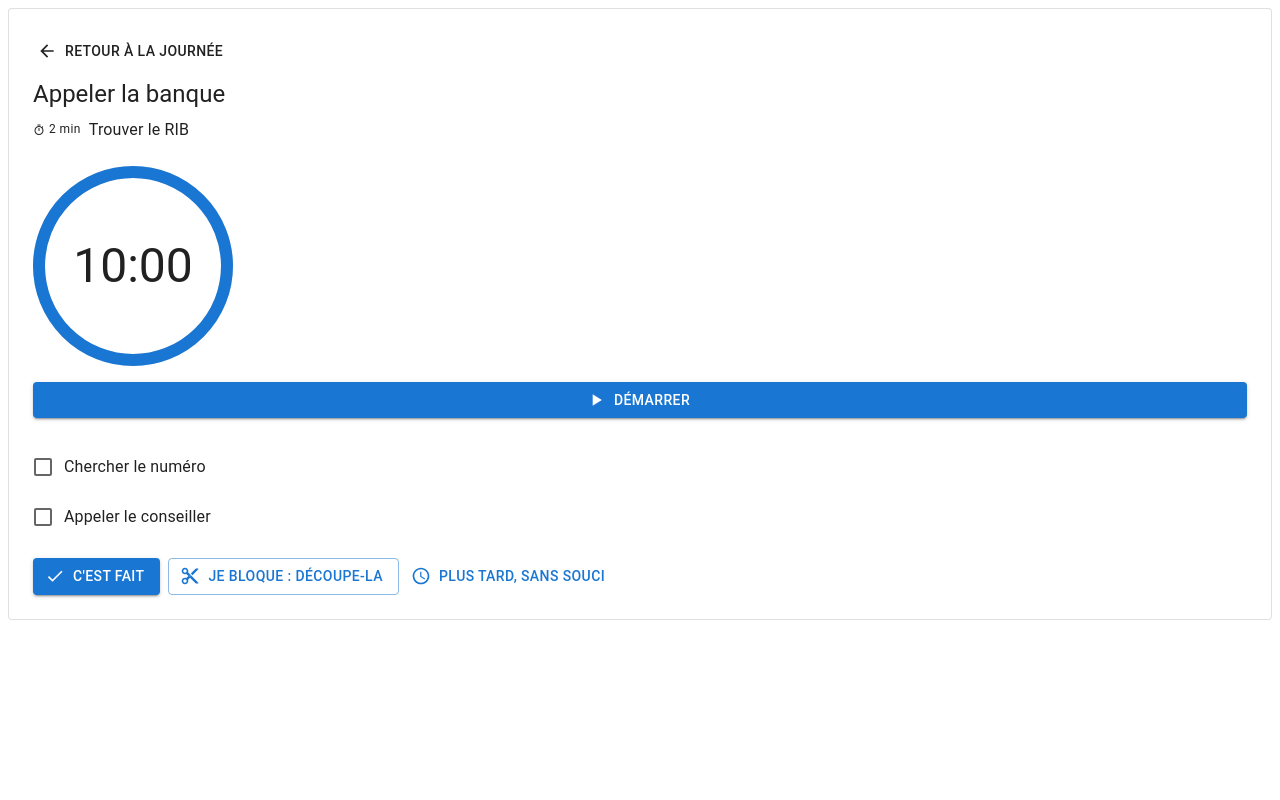
Scenario: TaskFocus (MAG-499) › the timer › finish: it reaches 00:00, the ring is empty and nothing blames
This screenshot has width=1280, height=800.
Click the button "Démarrer" at (640, 400), box x1=33 y1=382 x2=1247 y2=418
Wait 600000 ms
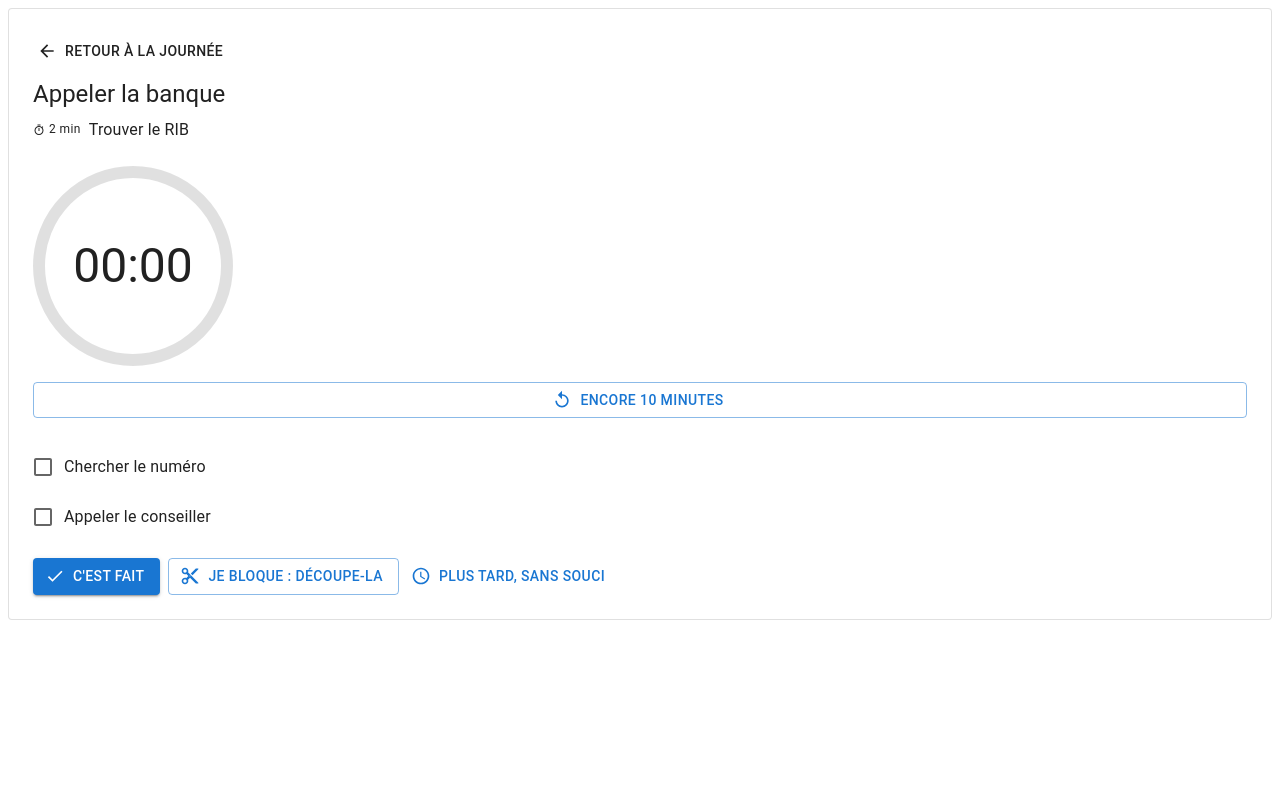
Check: the button "Pause" is not shown
Check: the element named "Minuteur" reads "00:00", box x1=73 y1=236 x2=193 y2=294
Check: the button "Encore 10 minutes" is shown
Click the button "Encore 10 minutes" at (640, 400), box x1=33 y1=382 x2=1247 y2=418
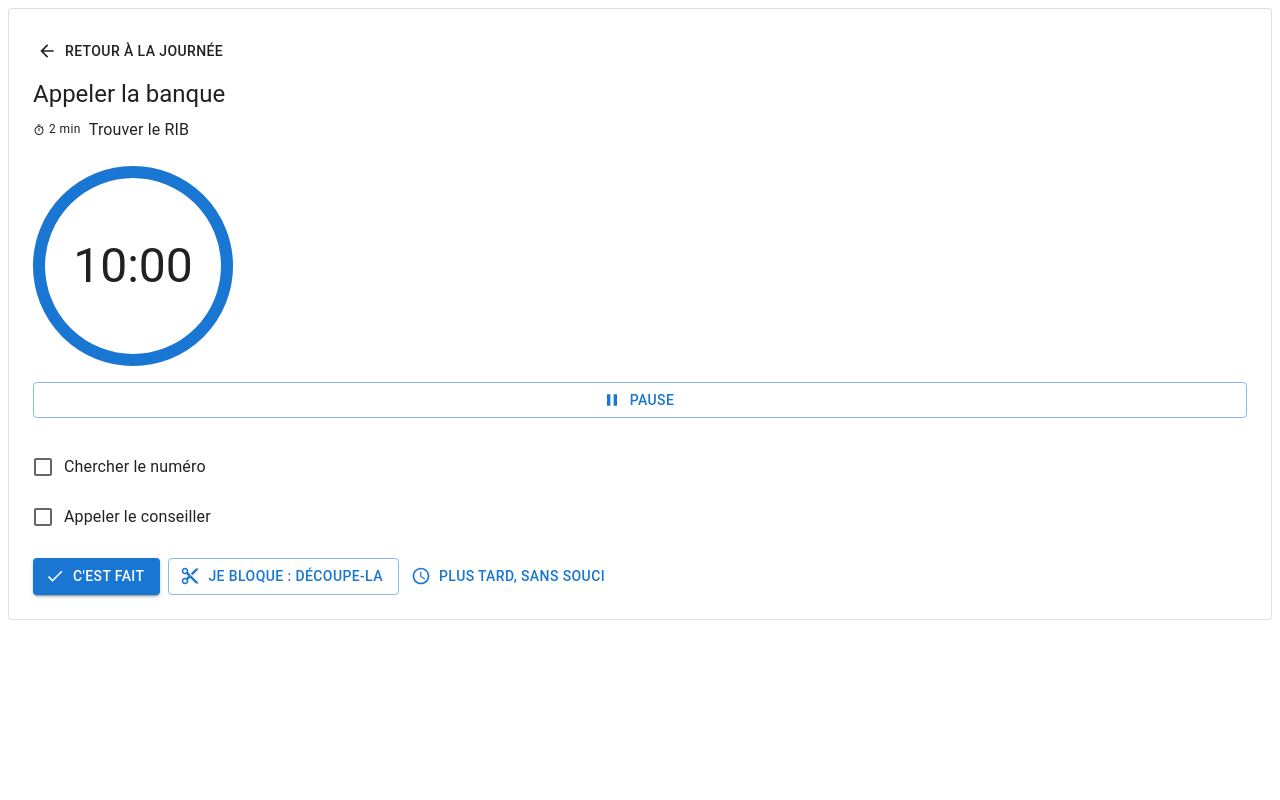
Check: the element named "Minuteur" reads "10:00", box x1=73 y1=236 x2=193 y2=294
